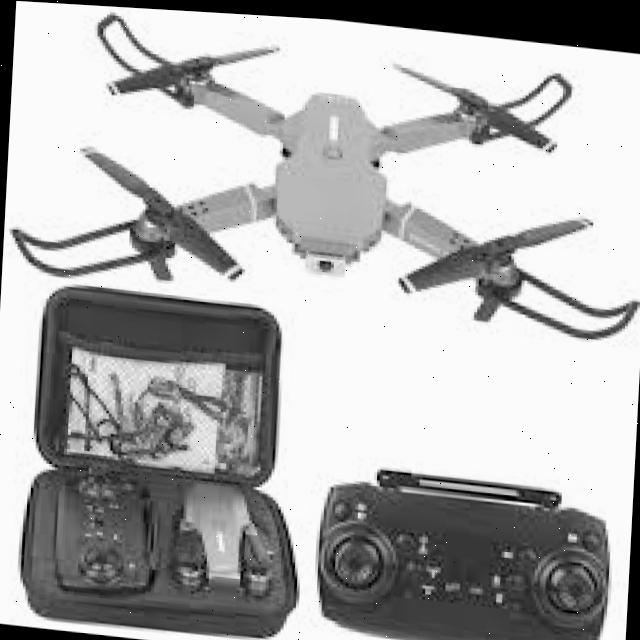drone: (0, 0, 640, 365)
